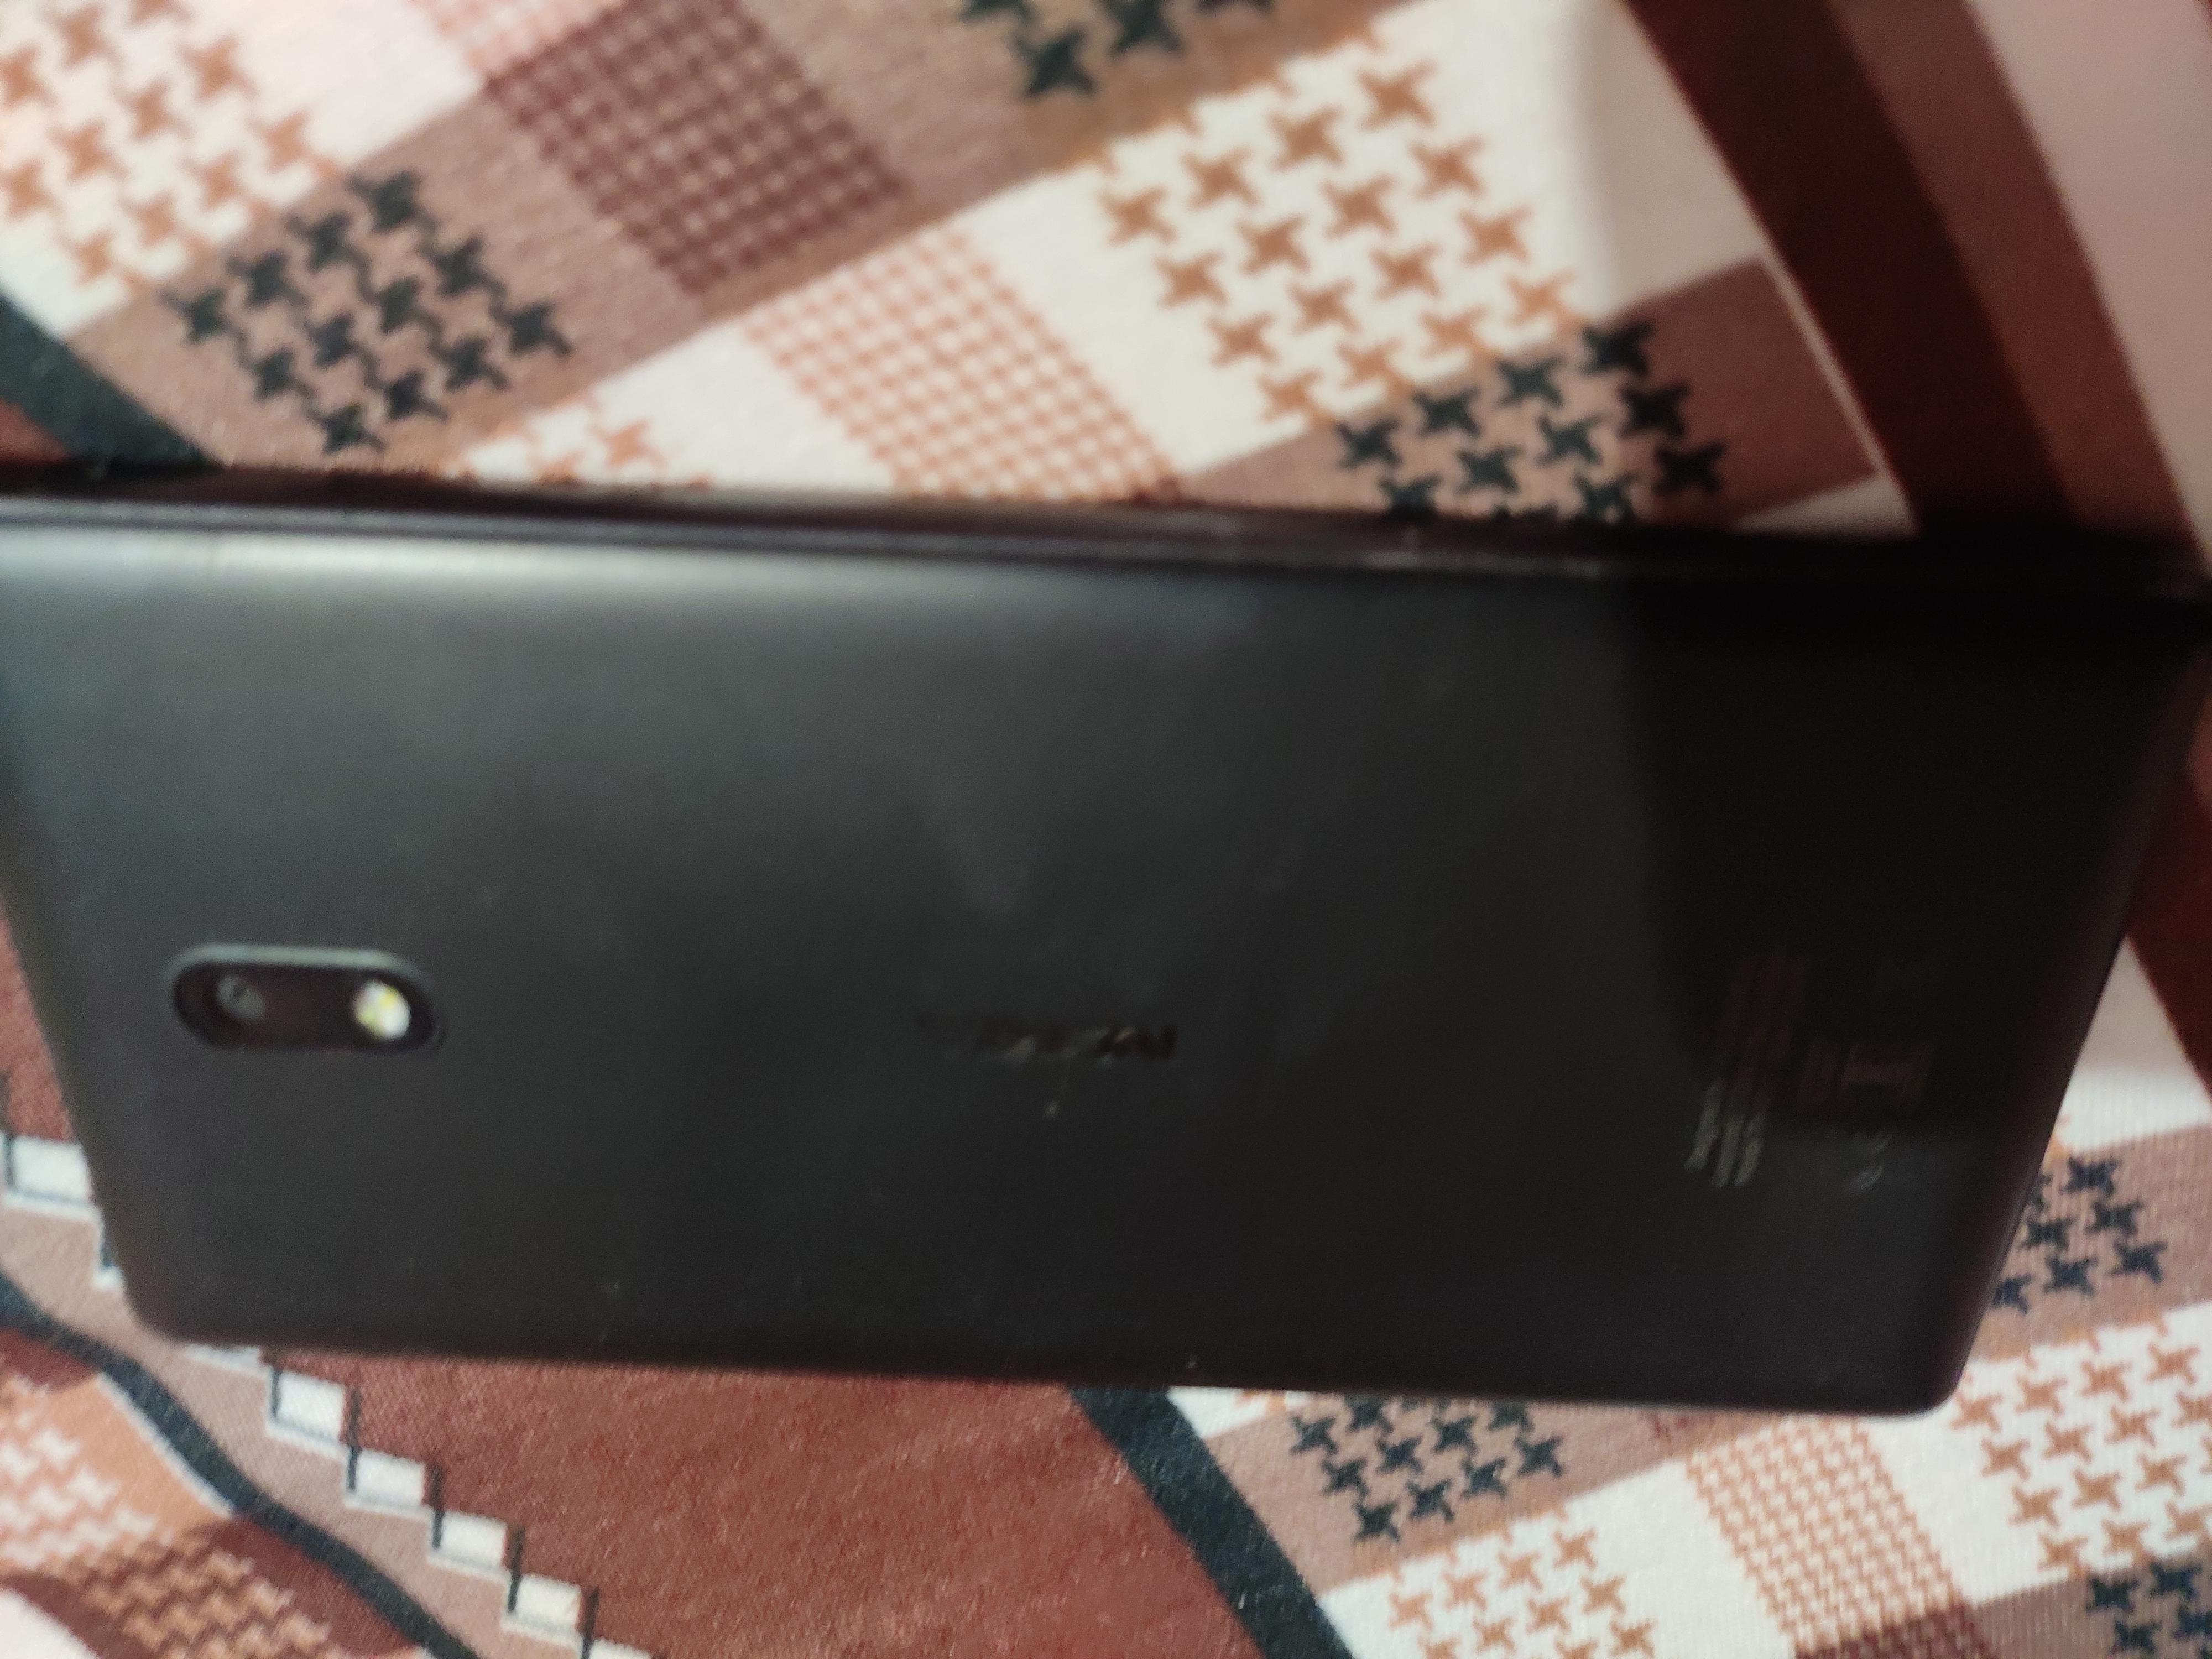Phone: (9, 471, 2212, 1448)
